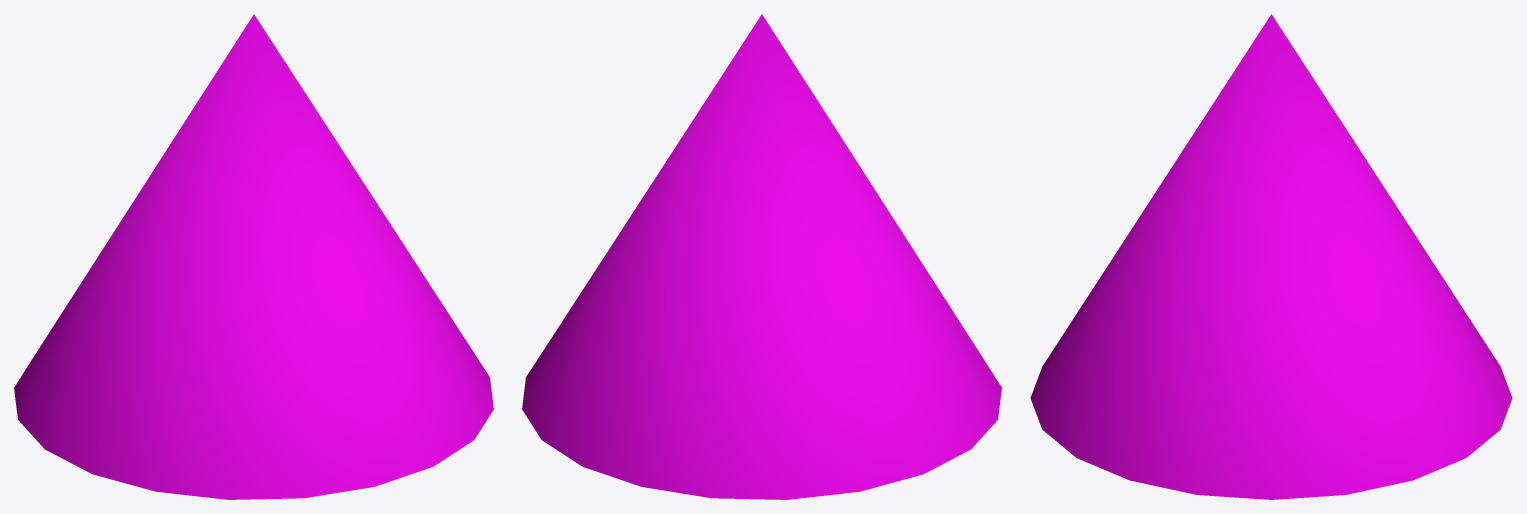
The model's file is LightRayCone.fbx.
The picture shows the model from 3 angles, left to right: view 1: azimuth 30°, elevation 25°; view 2: azimuth 150°, elevation 25°; view 3: azimuth 270°, elevation 25°; orthographic projection.
Visible parts, largest first — view 1: pCone3; view 2: pCone3; view 3: pCone3.
Boxes of the visible parts, x1=… form: pCone3: x1=14, y1=14, x2=493, y2=499; pCone3: x1=522, y1=14, x2=1001, y2=499; pCone3: x1=1030, y1=14, x2=1512, y2=499.
Size of the model in its own units: 6.51 by 5.72 by 6.51.
